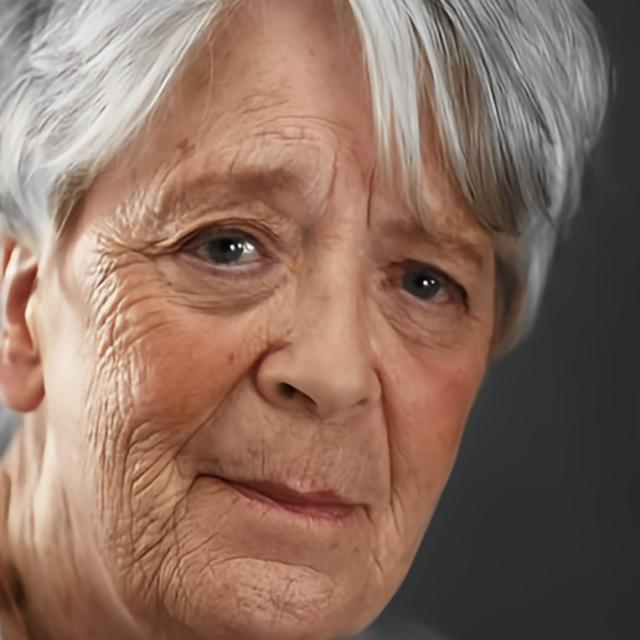sad: (43, 0, 500, 640)
